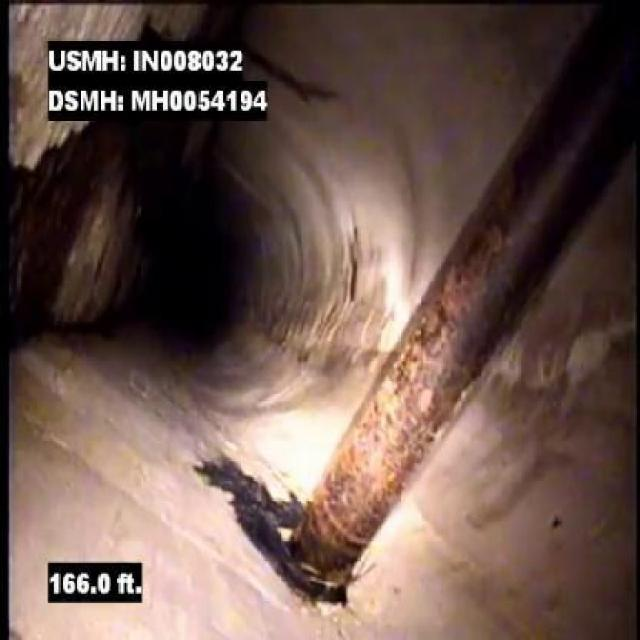Utility intrusion: (285, 4, 629, 590)
